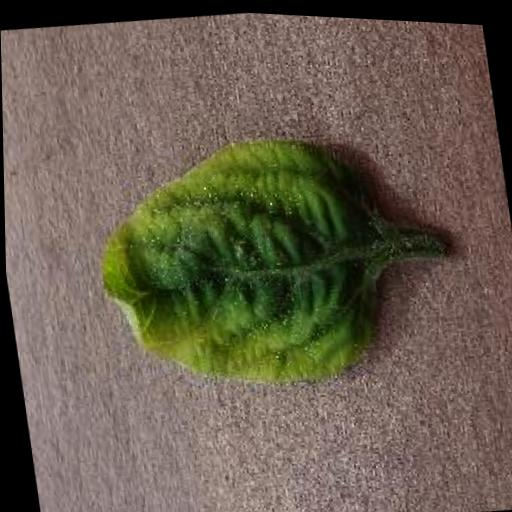Yellow Leaf Curl Virus: (80, 115, 407, 406)
